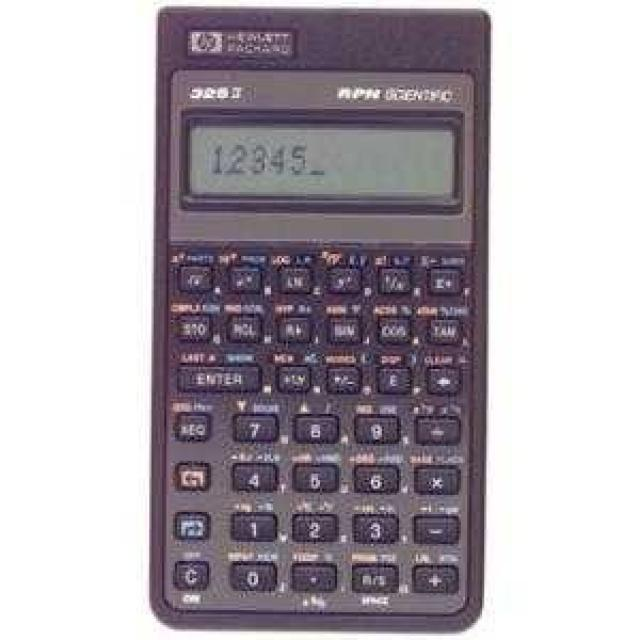Calculator: (147, 2, 491, 632)
